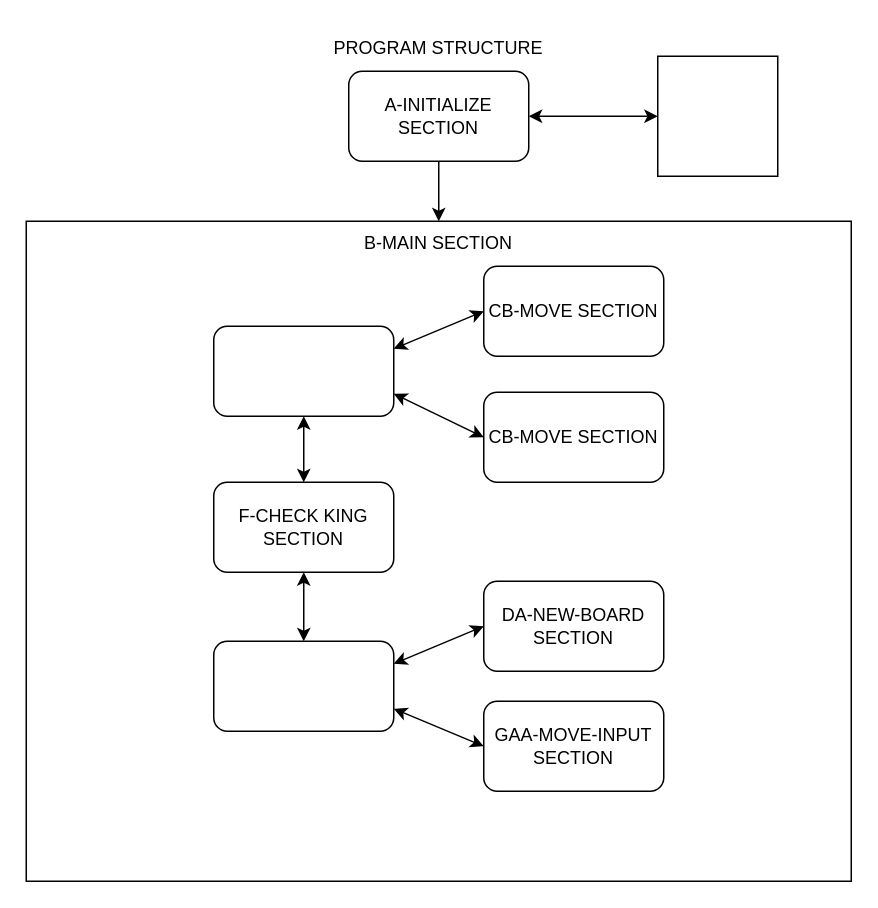
Image size: 878x908. Some labels were removed from this diagram. The shapes that lost their labels are listed below. From the top down, each one's box as (x1, y1, x2, y2) in pixels, then its label:
(656, 55, 778, 176): CSUB001
(212, 325, 394, 416): C-DISP BOARD SECTION
(212, 640, 394, 731): GA-ACCEPT-W-CORD SECTION
